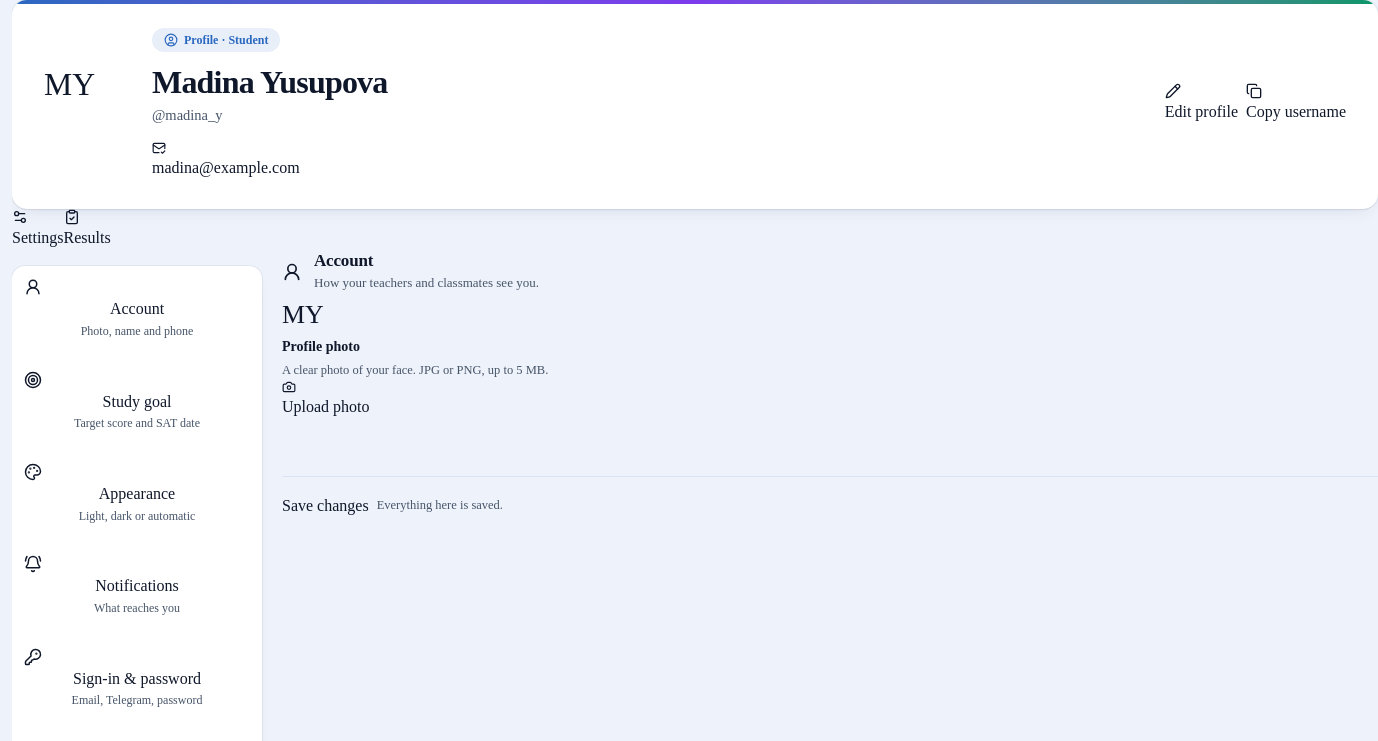
Test case: A public learner › reads each finished attempt back, linked to its review, and nothing else of the centre's
This screenshot has width=1378, height=741.
Click the tab "Results" at (87, 229), box [64, 209, 111, 250]
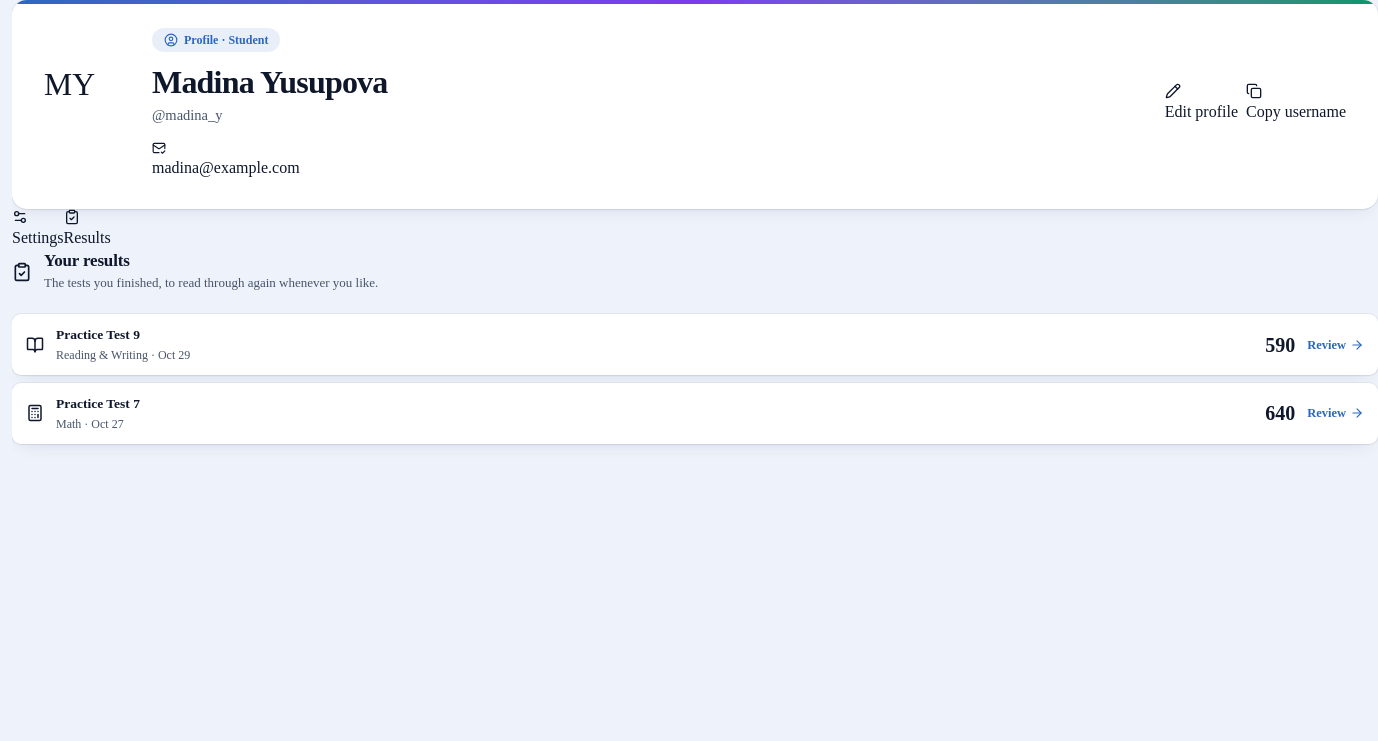
expect the text "Practice Test 7" is shown: met, box [56, 396, 140, 411]
expect the text "Practice Test 9" is shown: met, box [56, 327, 140, 342]
